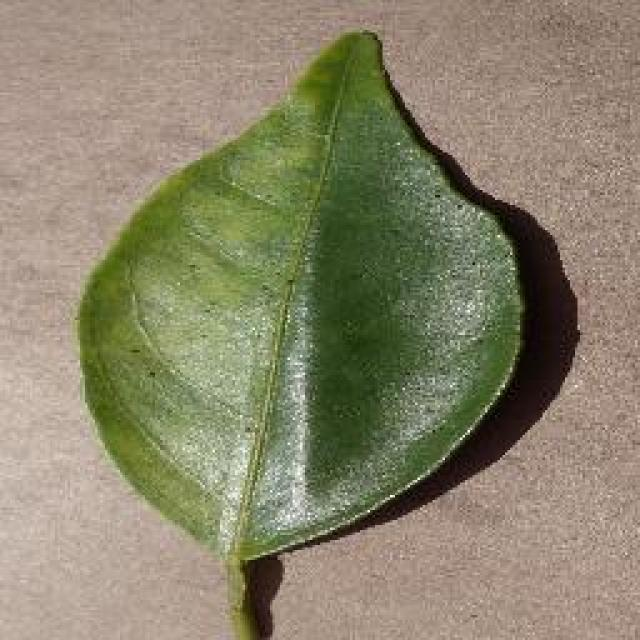Orange_Haunglongbing_Citrus_greening: (112, 110, 454, 494)
